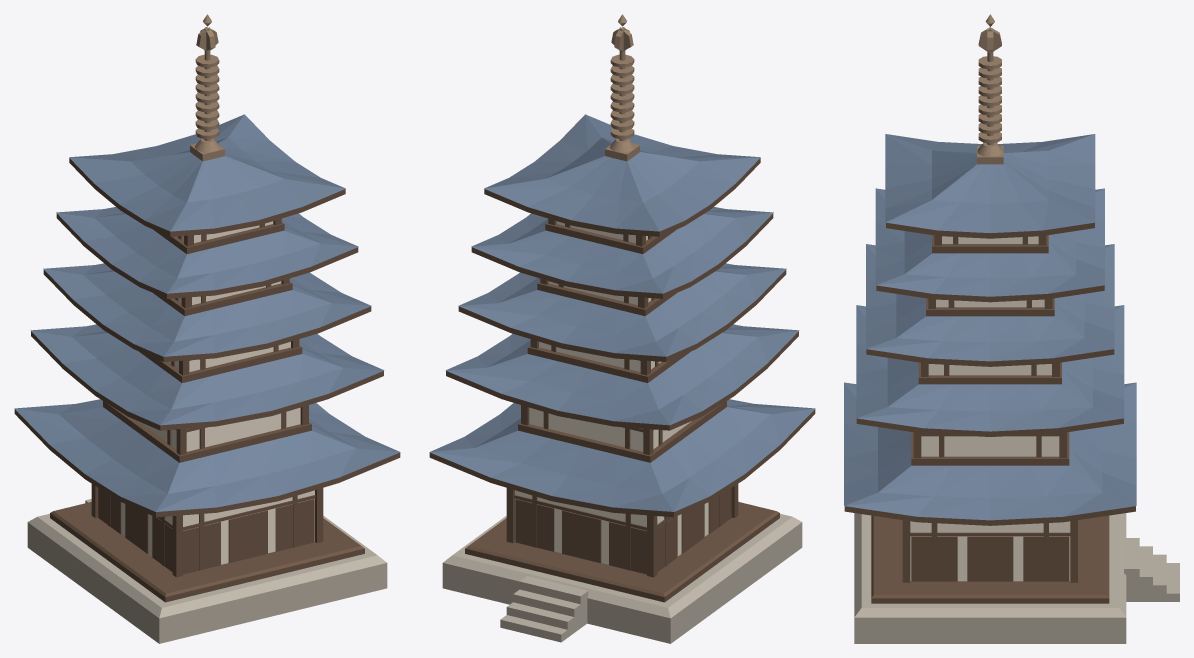
The model's file is wdw-epcot-japan-pagoda.glb.
The picture shows the model from 3 angles, left to right: view 1: azimuth 30°, elevation 25°; view 2: azimuth 150°, elevation 25°; view 3: azimuth 270°, elevation 25°; orthographic projection. The views are drawn at different scales.
Visible parts, largest first — view 1: EPCOT Japan pavilion, Goju-no-to pagoda; view 2: EPCOT Japan pavilion, Goju-no-to pagoda; view 3: EPCOT Japan pavilion, Goju-no-to pagoda.
Part boxes in pixels (x1=…): EPCOT Japan pavilion, Goju-no-to pagoda: x1=14, y1=14, x2=400, y2=643; EPCOT Japan pavilion, Goju-no-to pagoda: x1=429, y1=14, x2=815, y2=643; EPCOT Japan pavilion, Goju-no-to pagoda: x1=844, y1=14, x2=1179, y2=643.
Size of the model in its own units: 12.04 by 26 by 13.82.
